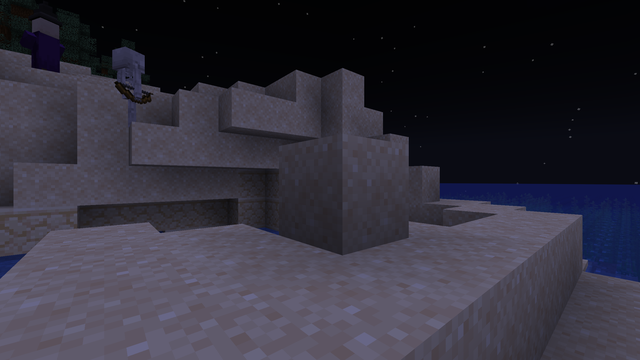sorcieres: (30, 12, 59, 69)
squelettes: (114, 44, 143, 128)
